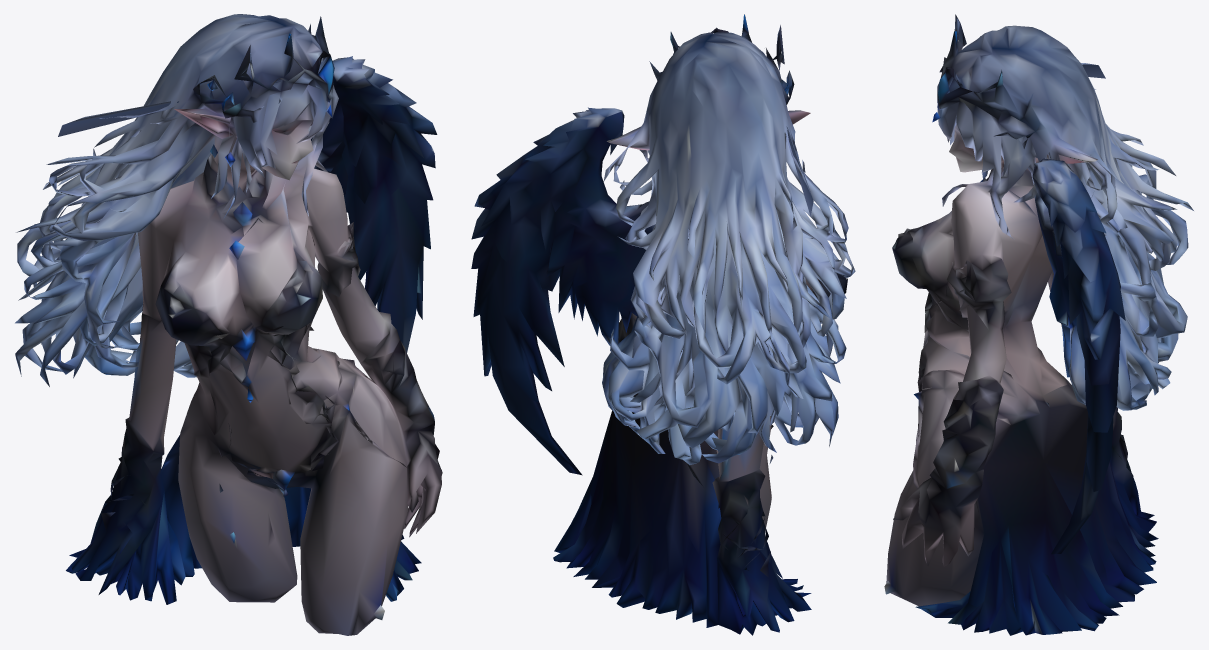
Rendered from 01a19d9d-b4cc-7adf-bb92-e02af7d248cd.glb.
The picture shows the model from 3 angles, left to right: view 1: azimuth 30°, elevation 25°; view 2: azimuth 150°, elevation 25°; view 3: azimuth 270°, elevation 25°; orthographic projection. The views are drawn at different scales.
Parts seen in each view (by area): view 1: model; view 2: model; view 3: model.
Part boxes in pixels (x1,y1,x2,y2): model: [15, 14, 442, 635]; model: [471, 14, 855, 635]; model: [884, 14, 1193, 635].
Bounding box in the file's own units: 1.38 × 1.89 × 0.9677.
